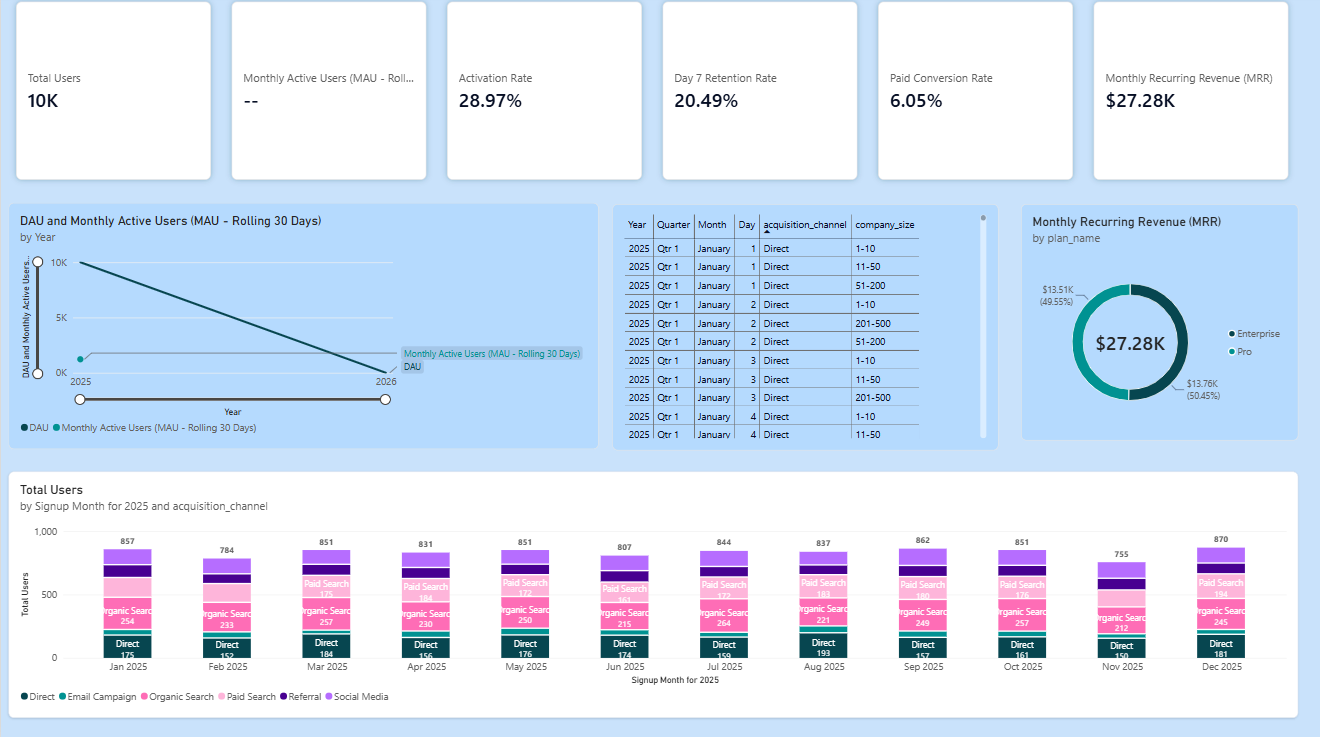

Layout of this report page (visuals, bound fields, positions):
{"tool":"powerbi","page":{"name":"Executive Overview","canvas":[1920,1080],"ordinal":0},"visuals":[{"type":"cardVisual","fields":{"Data":["Count(users.user_id)","_Measures.Monthly Active Users (MAU - Rolling 30 Days)","_Measures.Activation Rate","_Measures.Day 7 Retention Rate","_Measures.Paid Conversion Rate","_Measures.Monthly Recurring Revenue (MRR)"]},"box":[10.9,0,1867.6,280.5],"z":0},{"type":"lineChart","fields":{"Category":["Calendar.Date.Variation.Date Hierarchy.Year","Calendar.Date.Variation.Date Hierarchy.Quarter","Calendar.Date.Variation.Date Hierarchy.Month","Calendar.Date.Variation.Date Hierarchy.Day"],"Y":["_Measures.DAU","_Measures.Monthly Active Users (MAU - Rolling 30 Days)"]},"box":[10.9,302.2,854.2,356.5],"z":1000},{"type":"columnChart","fields":{"Category":["users.Signup MonthYear"],"Series":["users.acquisition_channel"],"Y":["Count(users.user_id)"]},"box":[10.9,691.3,1867.6,356.5],"z":2000},{"type":"donutChart","fields":{"Category":["subscriptions.plan_name"],"Y":["_Measures.Monthly Recurring Revenue (MRR)"]},"box":[1476.7,304,401.7,342],"z":3000},{"type":"tableEx","fields":{"Values":["Calendar.Date.Variation.Date Hierarchy.Year","Calendar.Date.Variation.Date Hierarchy.Quarter","Calendar.Date.Variation.Date Hierarchy.Month","Calendar.Date.Variation.Date Hierarchy.Day","users.acquisition_channel","users.company_size"]},"box":[884.9,304,559.2,356.5],"z":4000}]}

Visuals, with their boxes in screenshot pixels (x1, y1, x2, y2), scaled from the page's 1920x1080 canvas onto the 1320x737 screenshot:
cardVisual - Count(users.user_id) x _Measures.Monthly Active Users (MAU - Rolling 30 Days): [x1=7, y1=0, x2=1291, y2=191]
lineChart - Calendar.Date.Variation.Date Hierarchy.Year x Calendar.Date.Variation.Date Hierarchy.Quarter: [x1=7, y1=206, x2=595, y2=450]
columnChart - users.Signup MonthYear x users.acquisition_channel: [x1=7, y1=472, x2=1291, y2=715]
donutChart - subscriptions.plan_name x _Measures.Monthly Recurring Revenue (MRR): [x1=1015, y1=207, x2=1291, y2=441]
tableEx - Calendar.Date.Variation.Date Hierarchy.Year x Calendar.Date.Variation.Date Hierarchy.Quarter: [x1=608, y1=207, x2=993, y2=451]
